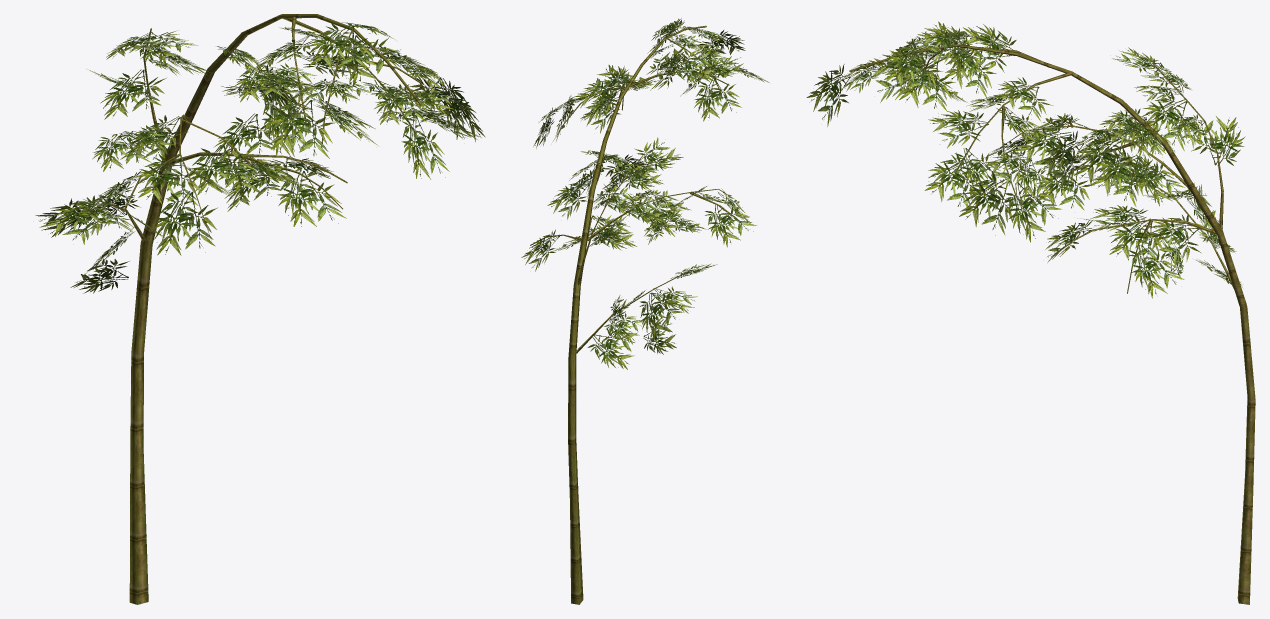
Rendered from S_Tree_Green005.FBX.
3 renders of one model, left to right at view 1: azimuth 30°, elevation 25°; view 2: azimuth 150°, elevation 25°; view 3: azimuth 270°, elevation 25°, orthographic. The views are drawn at different scales.
Parts seen in each view (by area): view 1: S_Tree_Green005; view 2: S_Tree_Green005; view 3: S_Tree_Green005.
Part boxes in pixels (left/top/right/bottom): S_Tree_Green005: left=35, top=14, right=485, bottom=604; S_Tree_Green005: left=521, top=18, right=769, bottom=604; S_Tree_Green005: left=806, top=21, right=1255, bottom=604.
Bounding box in the file's own units: 488 × 614 × 888.
